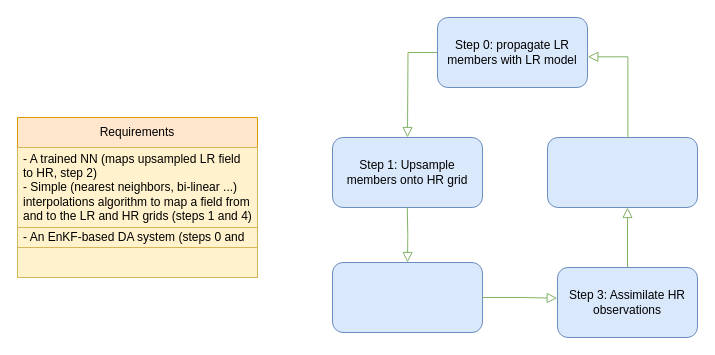
Image size: 715x355. Some labels were removed from this diagram. The shapes that lost their labels are listed below. From the top down, each one's box as (x1, y1, x2, y2) in pixels, then its label:
(546, 136, 698, 208): Step 4: Downsample members back to LR grid
(16, 246, 258, 278): - A set of LR initial members
(332, 262, 482, 332): Step 2: Super Resolution of the members with the NN
